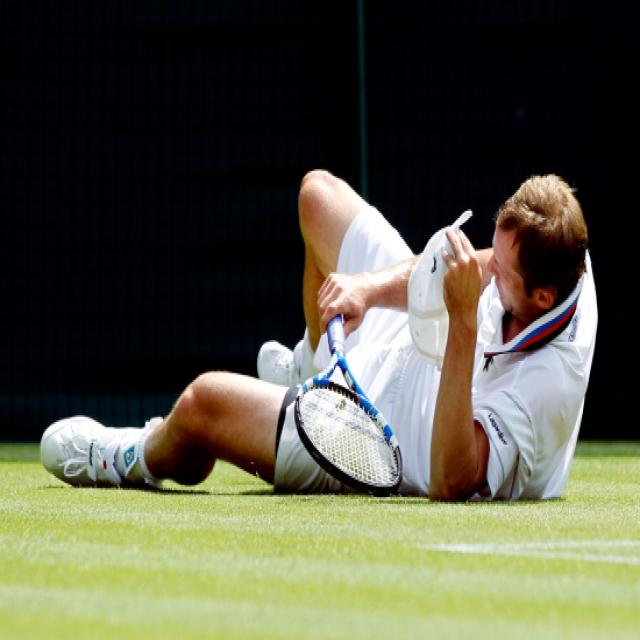Fall: (37, 169, 600, 506)
